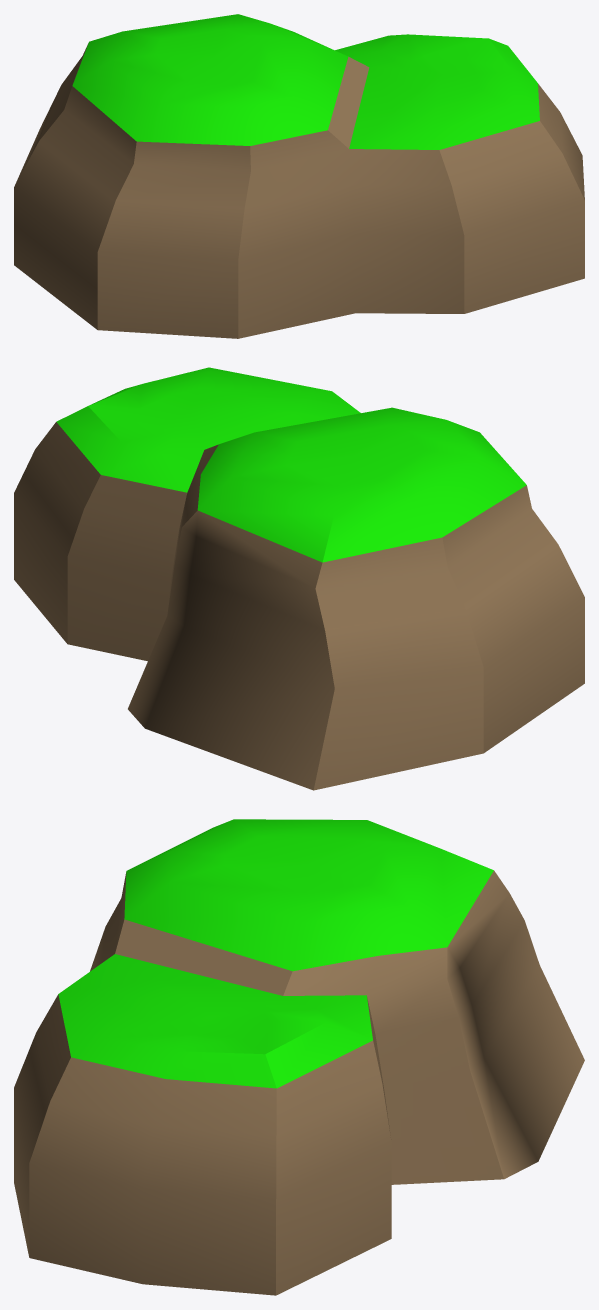
The model's file is island_3.fbx.
3 renders of one model, top to bottom at view 1: azimuth 30°, elevation 25°; view 2: azimuth 150°, elevation 25°; view 3: azimuth 270°, elevation 25°, orthographic. The views are drawn at different scales.
Visible parts, largest first — view 1: Big Island; view 2: Big Island; view 3: Big Island.
Part boxes in pixels (bbox=[...]): Big Island: bbox=[14, 14, 584, 338]; Big Island: bbox=[14, 367, 584, 790]; Big Island: bbox=[14, 819, 584, 1295].
Bounding box in the file's own units: 1367 × 543 × 1155.
